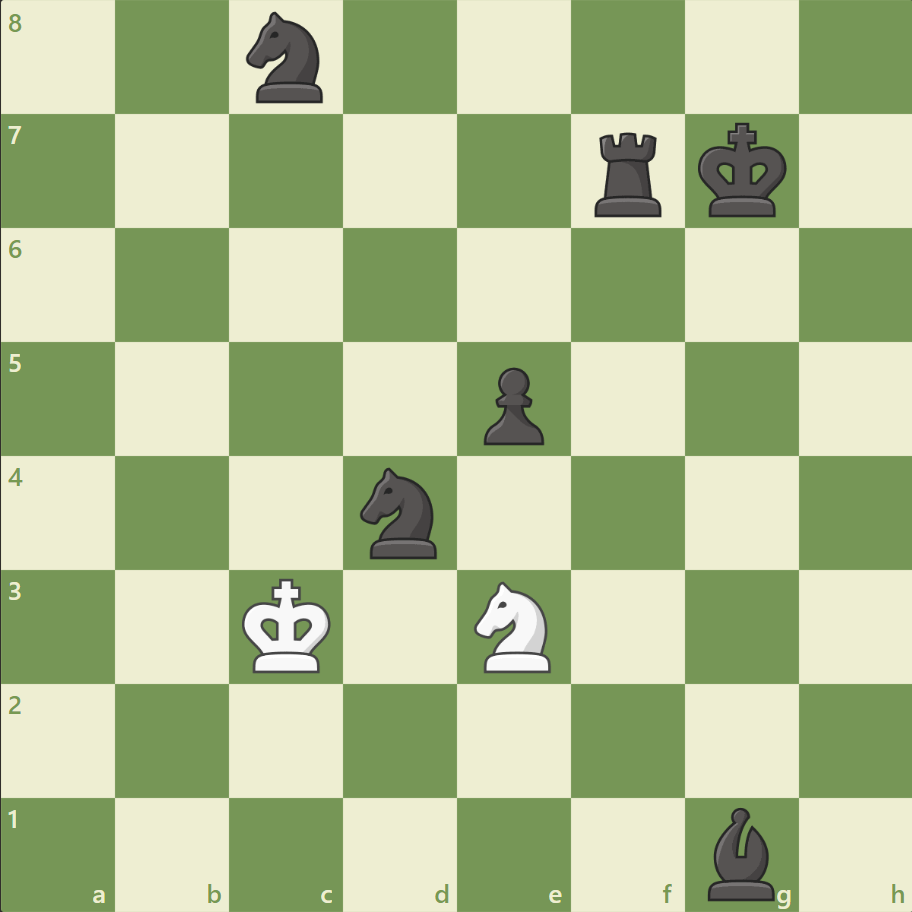K: (238, 571, 338, 679)
N: (465, 575, 562, 677)
b: (698, 801, 782, 904)
k: (692, 117, 792, 225)
n: (351, 461, 449, 564), (238, 7, 335, 110)
p: (474, 359, 549, 450)
r: (587, 125, 670, 222)
